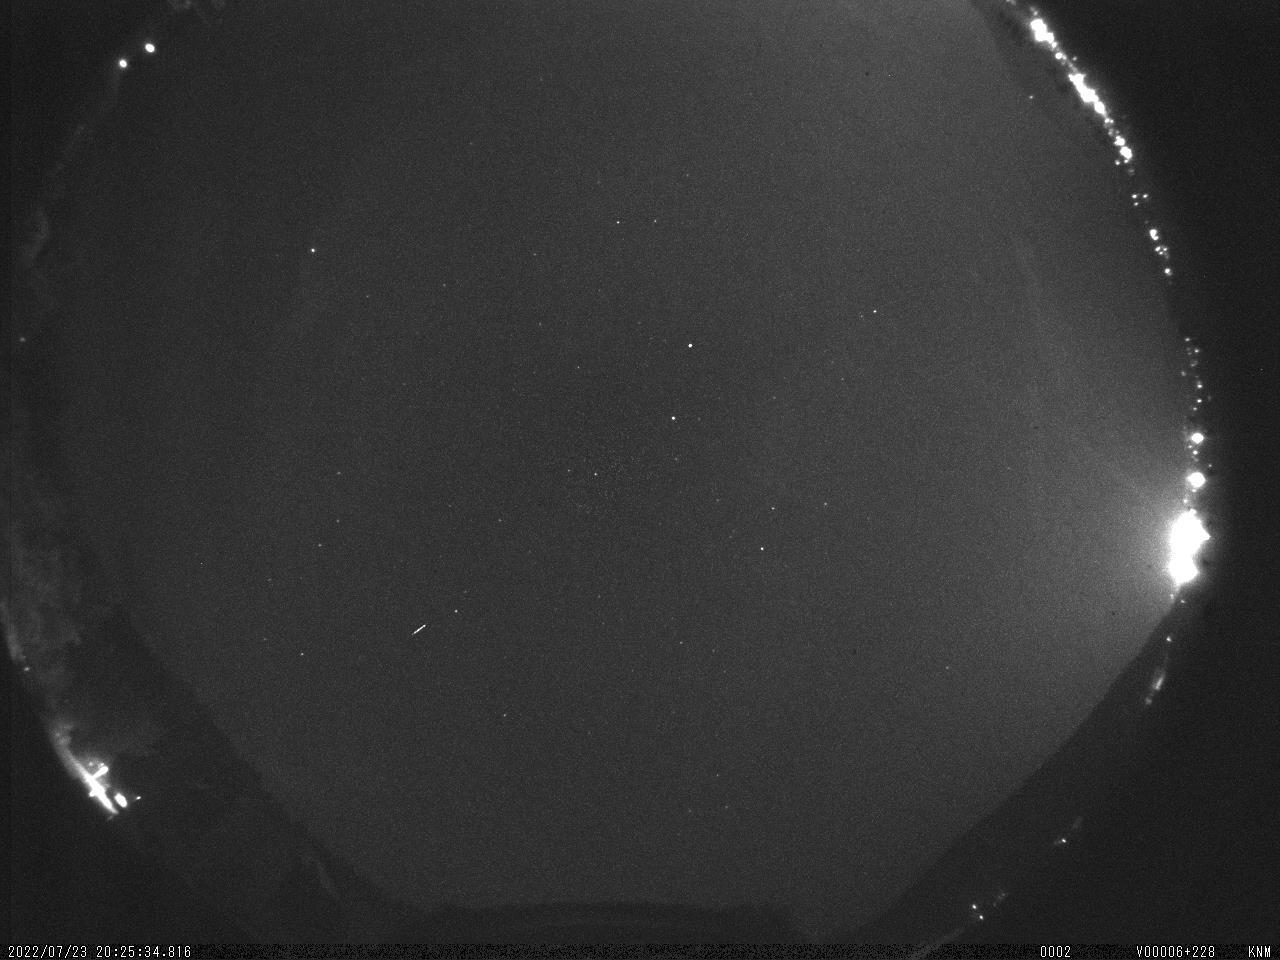Meteor: (404, 614, 437, 645)
